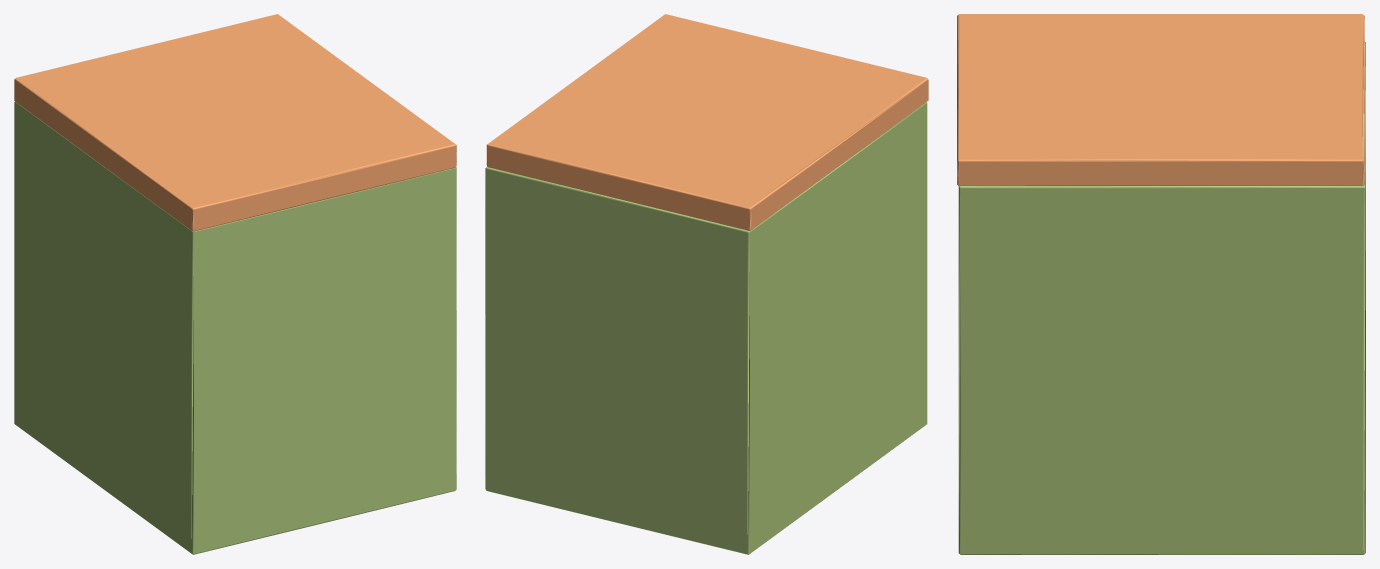
Rendered from kitchenset2.obj.
3 views of the same model, side by side, from view 1: azimuth 30°, elevation 25°; view 2: azimuth 150°, elevation 25°; view 3: azimuth 270°, elevation 25° (orthographic). The views are drawn at different scales.
Visible parts, largest first — view 1: Counter_corner_Cube.070; view 2: Counter_corner_Cube.070; view 3: Counter_corner_Cube.070.
Boxes of the visible parts, bbox=[...] form: Counter_corner_Cube.070: bbox=[14, 14, 456, 554]; Counter_corner_Cube.070: bbox=[485, 14, 928, 554]; Counter_corner_Cube.070: bbox=[957, 14, 1365, 554].
Bounding box in the file's own units: 1.87 × 2.34 × 2.19.
